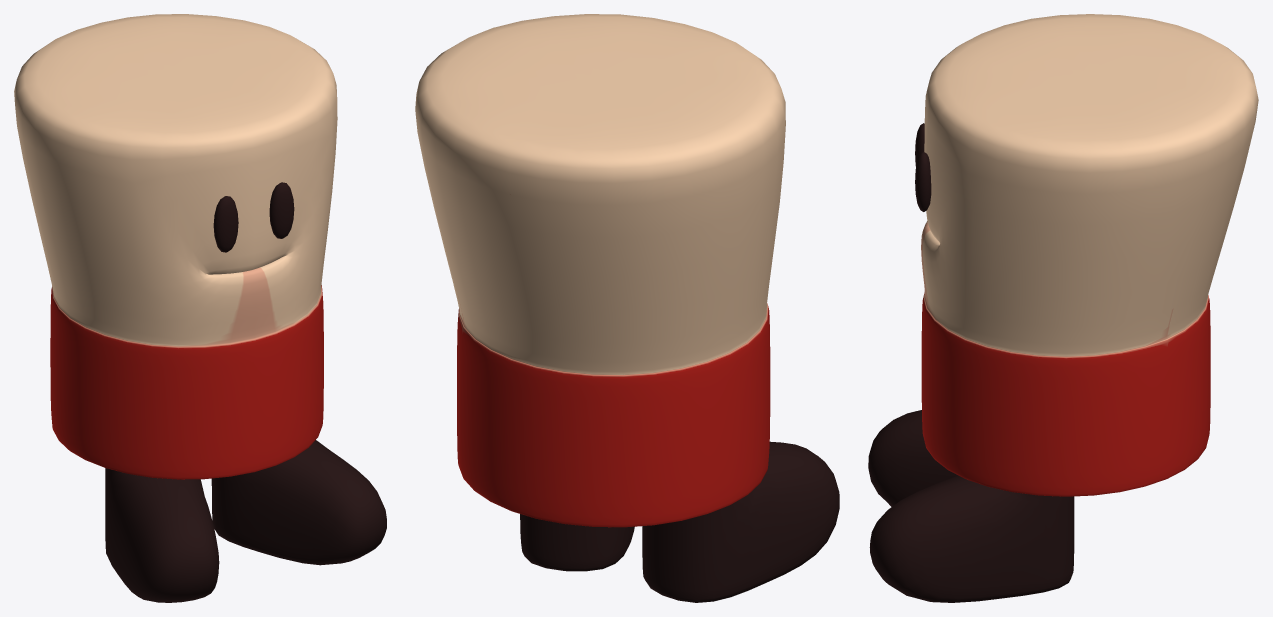
The model's file is NPC-1.fbx.
The picture shows the model from 3 angles, left to right: view 1: azimuth 30°, elevation 25°; view 2: azimuth 150°, elevation 25°; view 3: azimuth 270°, elevation 25°; orthographic projection. The views are drawn at different scales.
Visible parts, largest first — view 1: pCylinder2, pCube17, pCube16, pCube13, pCube14; view 2: pCylinder2, pCube16, pCube17; view 3: pCylinder2, pCube17, pCube16, pCube14.
Boxes of the visible parts, x1,y1,x2,y2 form: pCylinder2: [14, 14, 337, 479]; pCube17: [211, 440, 386, 565]; pCube16: [105, 468, 219, 602]; pCube13: [213, 196, 238, 252]; pCube14: [269, 182, 294, 238]; pCylinder2: [415, 14, 785, 527]; pCube16: [642, 441, 839, 602]; pCube17: [520, 514, 634, 571]; pCylinder2: [921, 14, 1258, 496]; pCube17: [869, 475, 1074, 602]; pCube16: [868, 410, 957, 506]; pCube14: [915, 152, 931, 211].
Size of the model in its own units: 259 by 390 by 293.
Materials: 2 (1 with a texture image).
